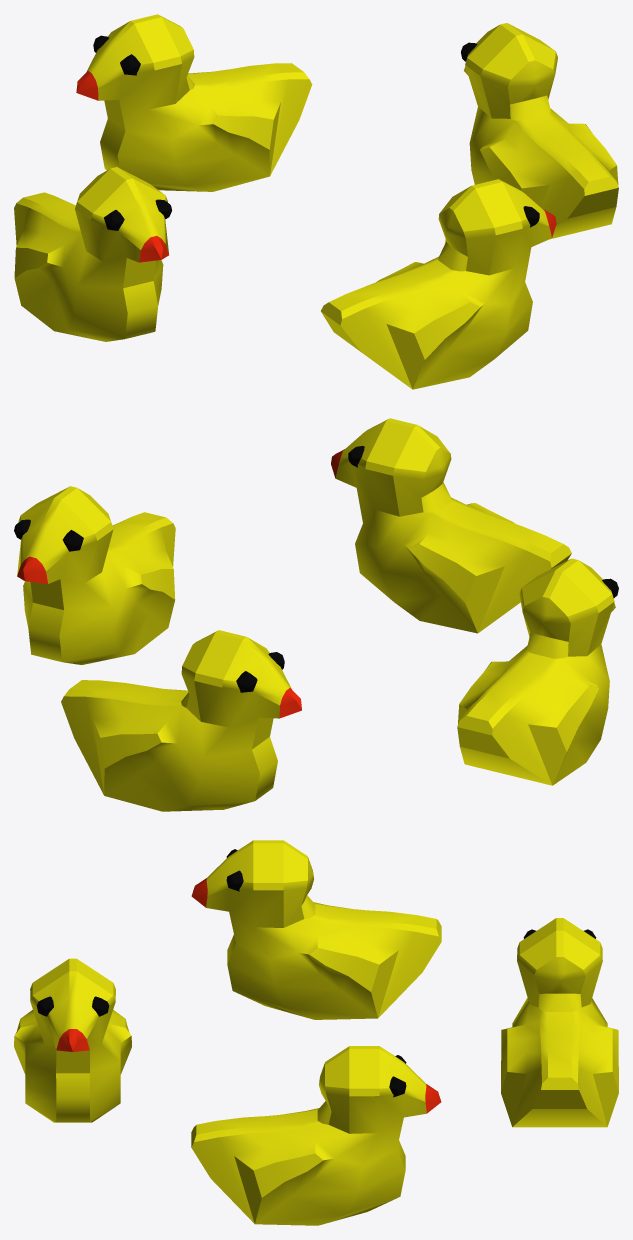
File: Duckies.fbx
3 renders of one model, top to bottom at view 1: azimuth 30°, elevation 25°; view 2: azimuth 150°, elevation 25°; view 3: azimuth 270°, elevation 25°, orthographic. The views are drawn at different scales.
Visible parts, largest first — view 1: pSphere9; view 2: pSphere9; view 3: pSphere9.
Part boxes in pixels (x1,y1,x2,y2): pSphere9: [14, 14, 618, 389]; pSphere9: [14, 418, 618, 811]; pSphere9: [14, 840, 618, 1225].
Size of the model in its own units: 12.42 by 3.58 by 12.42.
